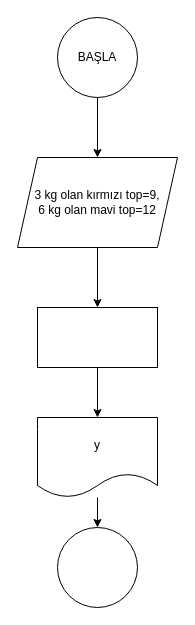
This 195x625 diagram has some shape labels left out. Here are the shapes that lost their labels. From the top down, the box of each, then its label:
(36, 306, 158, 368): 99kg=21 top 99-(x*3+y*6)=z z/x+y=5 (3x+6y)/x+y=4
(56, 526, 138, 608): DUR
